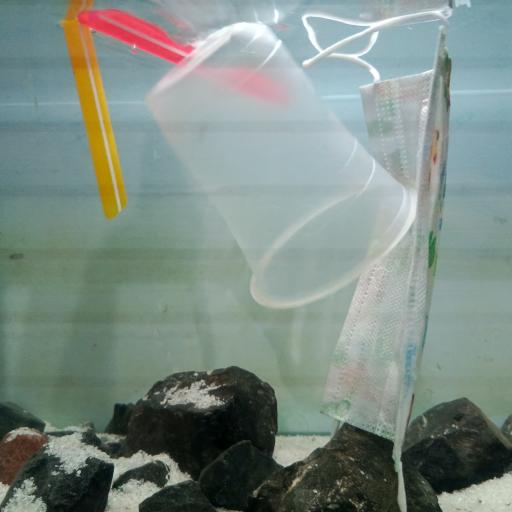mask: (302, 16, 454, 476)
plastic_cup: (145, 22, 419, 308)
plastic_straw: (64, 19, 130, 219), (80, 12, 194, 63)
